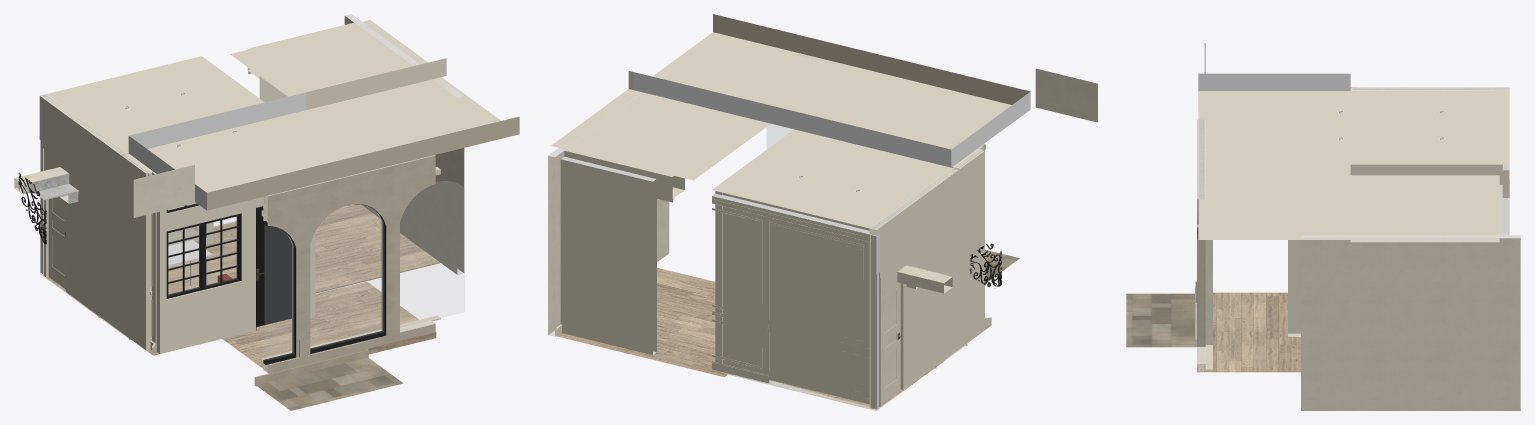
File: office-west-efc04ab1be45.glb
The picture shows the model from 3 angles, left to right: view 1: azimuth 30°, elevation 25°; view 2: azimuth 150°, elevation 25°; view 3: azimuth 270°, elevation 25°; orthographic projection. The views are drawn at different scales.
Parts seen in each view (by area): view 1: office-west-look-dbd60ee5c3733ed6, office-west-6a051330000fbca1, office-west-look-c9e78b9ec1bb39cd, office-west-look-2575515a05775d9e, office-west-2575515a05775d9e, office-west-look-c02a36d0521470a9, office-west-a822d30aa9e2c55a, office-west-look-5cbcc744e6f960f3, office-west-look-3b0077416469e01b, office-west-look-6a1144f4e43410bb, office-west-look-c374268555806af8, office-west-dbd60ee5c3733ed6 (+17 smaller); view 2: office-west-look-dbd60ee5c3733ed6, office-west-fca9ba73dd7496f7, office-west-6a051330000fbca1, office-west-look-19647d6da46c2b80, office-west-2575515a05775d9e, office-west-look-2575515a05775d9e, office-west-look-3b0077416469e01b, office-west-19647d6da46c2b80, office-west-look-6a1144f4e43410bb, office-west-look-34525a54e63b733b, office-west-dbd60ee5c3733ed6, office-west-80d276f58a4dc5cb (+10 smaller); view 3: office-west-look-6a1144f4e43410bb, office-west-look-dbd60ee5c3733ed6, office-west-2575515a05775d9e, office-west-look-2575515a05775d9e, office-west-look-c374268555806af8, office-west-dbd60ee5c3733ed6, office-west-look-982408871810a50e, office-west-7b11e78295c2e11d, office-west-look-c9e78b9ec1bb39cd, office-west-look-e54cb06e326b7f4f, office-west-a822d30aa9e2c55a, office-west-9cfa99552c9f4048 (+1 smaller).
Part boxes in pixels (bbox=[...]): office-west-look-dbd60ee5c3733ed6: bbox=[128, 77, 519, 210]; office-west-6a051330000fbca1: bbox=[39, 94, 156, 351]; office-west-look-c9e78b9ec1bb39cd: bbox=[263, 155, 435, 372]; office-west-look-2575515a05775d9e: bbox=[230, 20, 446, 109]; office-west-2575515a05775d9e: bbox=[40, 56, 282, 155]; office-west-look-c02a36d0521470a9: bbox=[310, 204, 383, 348]; office-west-a822d30aa9e2c55a: bbox=[156, 139, 307, 353]; office-west-look-5cbcc744e6f960f3: bbox=[400, 181, 464, 327]; office-west-look-3b0077416469e01b: bbox=[213, 204, 440, 293]; office-west-look-6a1144f4e43410bb: bbox=[344, 14, 464, 274]; office-west-look-c374268555806af8: bbox=[223, 281, 436, 370]; office-west-dbd60ee5c3733ed6: bbox=[128, 116, 314, 173]; office-west-look-dbd60ee5c3733ed6: bbox=[633, 14, 1030, 166]; office-west-fca9ba73dd7496f7: bbox=[722, 193, 840, 396]; office-west-6a051330000fbca1: bbox=[869, 146, 984, 408]; office-west-look-19647d6da46c2b80: bbox=[560, 156, 656, 355]; office-west-2575515a05775d9e: bbox=[712, 129, 958, 228]; office-west-look-2575515a05775d9e: bbox=[551, 71, 770, 180]; office-west-look-3b0077416469e01b: bbox=[557, 267, 727, 377]; office-west-19647d6da46c2b80: bbox=[712, 193, 869, 407]; office-west-look-6a1144f4e43410bb: bbox=[548, 72, 669, 336]; office-west-look-34525a54e63b733b: bbox=[1035, 68, 1097, 122]; office-west-dbd60ee5c3733ed6: bbox=[794, 105, 983, 167]; office-west-80d276f58a4dc5cb: bbox=[883, 283, 900, 402]; office-west-look-6a1144f4e43410bb: bbox=[1301, 235, 1520, 410]; office-west-look-dbd60ee5c3733ed6: bbox=[1198, 73, 1350, 239]; office-west-2575515a05775d9e: bbox=[1350, 87, 1509, 164]; office-west-look-2575515a05775d9e: bbox=[1350, 175, 1499, 242]; office-west-look-c374268555806af8: bbox=[1197, 292, 1300, 372]; office-west-dbd60ee5c3733ed6: bbox=[1288, 90, 1350, 164]; office-west-look-982408871810a50e: bbox=[1126, 293, 1196, 347]; office-west-7b11e78295c2e11d: bbox=[1288, 161, 1502, 336]; office-west-look-c9e78b9ec1bb39cd: bbox=[1197, 119, 1205, 371]; office-west-look-e54cb06e326b7f4f: bbox=[1205, 240, 1212, 369]; office-west-a822d30aa9e2c55a: bbox=[1288, 91, 1295, 333]; office-west-9cfa99552c9f4048: bbox=[1350, 164, 1478, 169].
Bounding box in the file's own units: 6.87 × 3.92 × 6.21.
29 materials, 8 textured.
